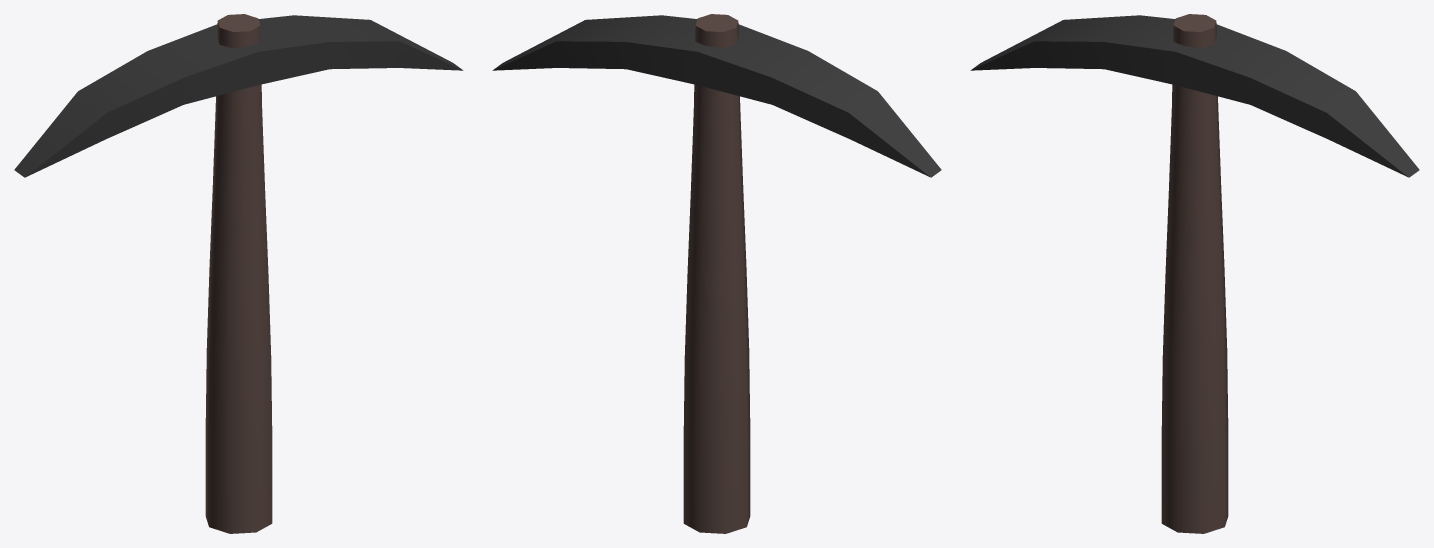
The model's file is pickaxe.fbx.
3 renders of one model, left to right at view 1: azimuth 30°, elevation 25°; view 2: azimuth 150°, elevation 25°; view 3: azimuth 330°, elevation 25°, orthographic.
Visible parts, largest first — view 1: Pickaxe; view 2: Pickaxe; view 3: Pickaxe.
Part boxes in pixels (box(x1,y1,x2,y2)): Pickaxe: box(14, 14, 463, 533); Pickaxe: box(492, 14, 941, 533); Pickaxe: box(970, 14, 1419, 533).
Size of the model in its own units: 185 by 200 by 28.34.
